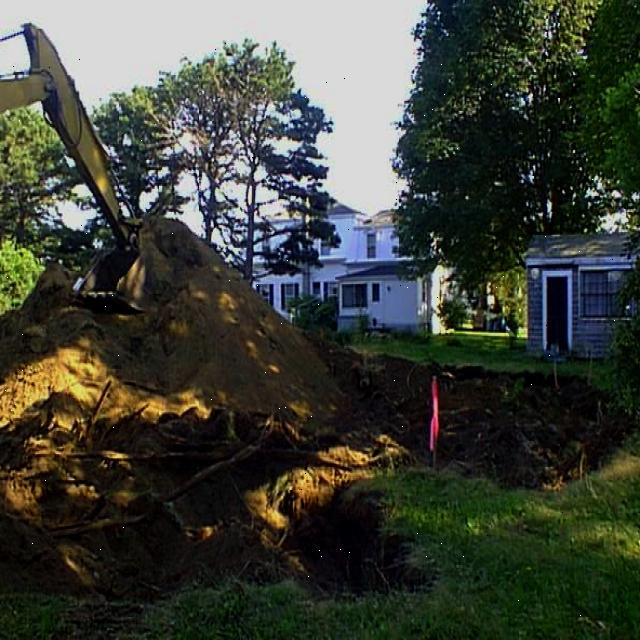Excavator: (0, 3, 174, 316)
